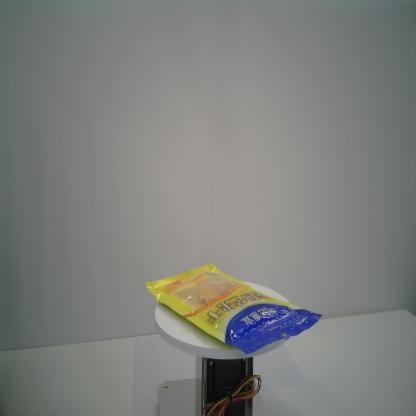Dried Fruit: (145, 262, 323, 355)
